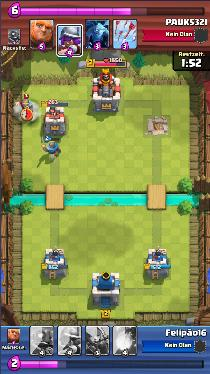ally_knight: (40, 140, 62, 156)
enemy_knight: (14, 98, 33, 115)
